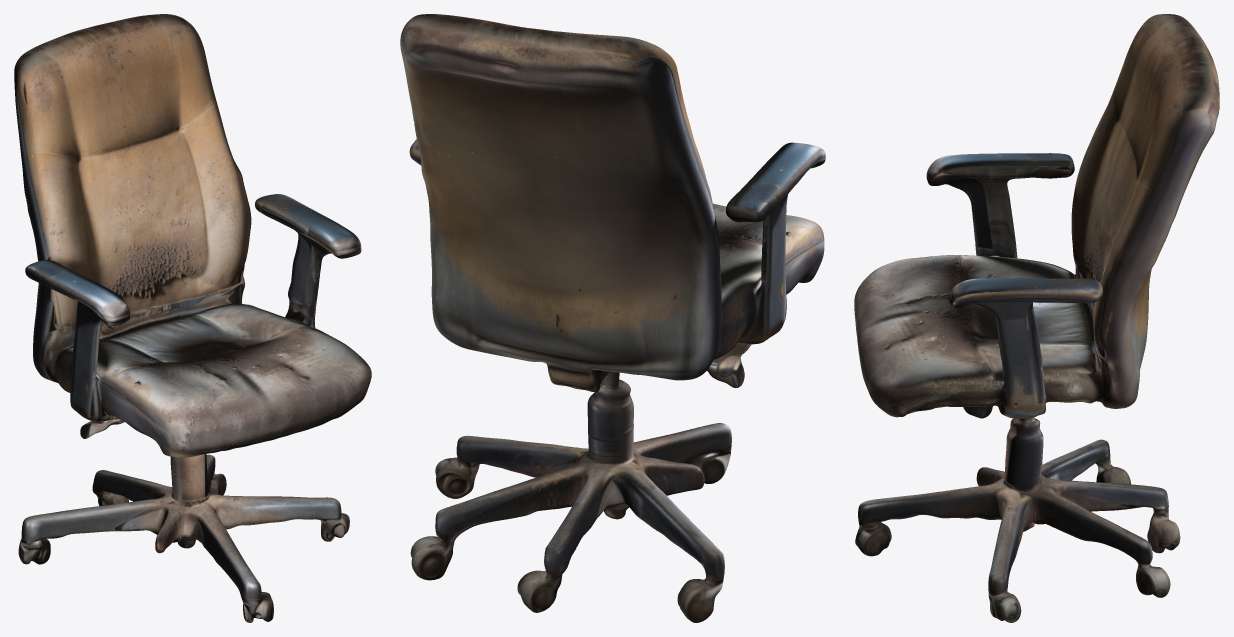
The model's file is office_chair.glb.
The picture shows the model from 3 angles, left to right: view 1: azimuth 30°, elevation 25°; view 2: azimuth 150°, elevation 25°; view 3: azimuth 270°, elevation 25°; orthographic projection. The views are drawn at different scales.
Size of the model in its own units: 1.27 by 2 by 1.33.
Materials: 1 (1 with a texture image).
